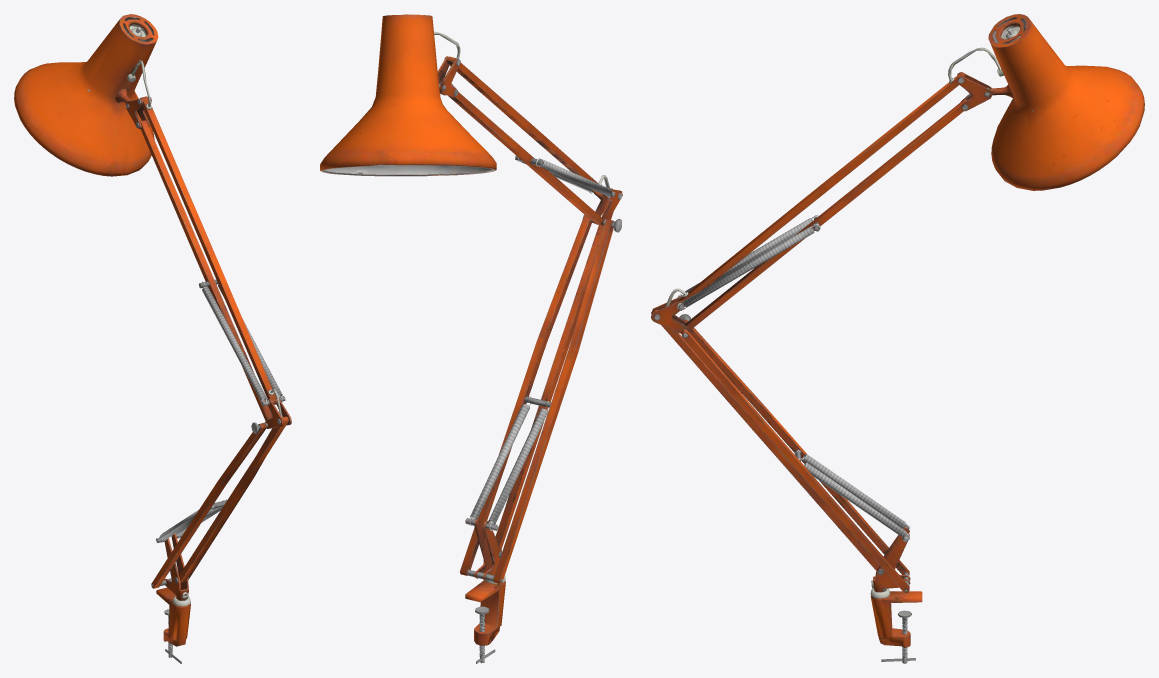
The model's file is PH-desk_lamp_arm_01.glb.
3 renders of one model, left to right at view 1: azimuth 30°, elevation 25°; view 2: azimuth 150°, elevation 25°; view 3: azimuth 270°, elevation 25°, orthographic. The views are drawn at different scales.
Visible parts, largest first — view 1: desk_lamp_arm_01; view 2: desk_lamp_arm_01; view 3: desk_lamp_arm_01.
Part boxes in pixels (x1,y1,x2,y2): desk_lamp_arm_01: (14, 14, 291, 663); desk_lamp_arm_01: (320, 14, 622, 663); desk_lamp_arm_01: (651, 14, 1144, 663).
Bounding box in the file's own units: 0.2017 × 0.8926 × 0.6139.
Materials: 2 (2 with a texture image).
